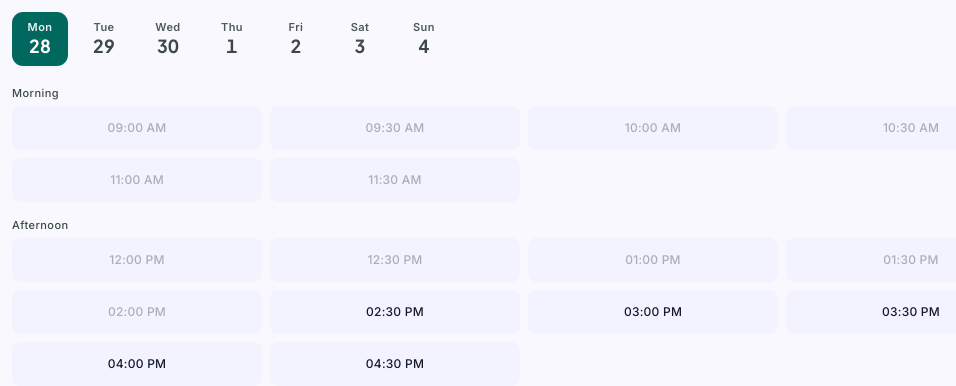
Scenario: SlotPicker › disables booked slots on the selected date
Click the tab with aria-label "sep 30" at (168, 39), box [140, 12, 196, 66]
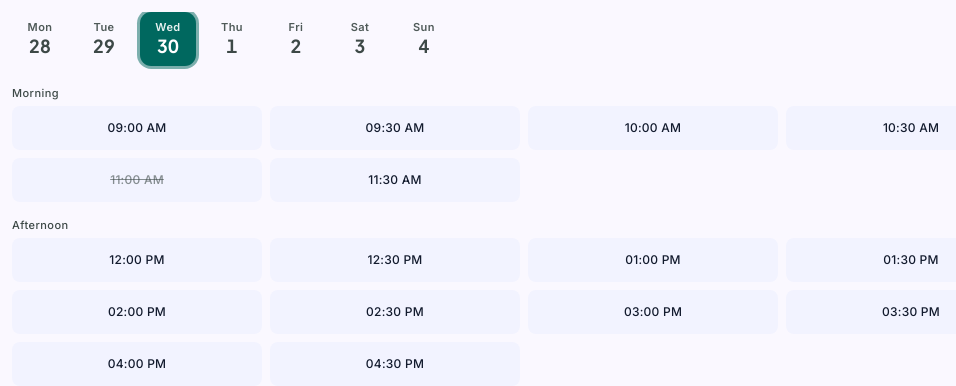
Expected: the radio button named "11:00 AM" next to "11:00 AM" is disabled, [129, 172, 145, 188]
Expected: the radio button named "11:30 AM" next to "11:30 AM" is enabled, [387, 172, 403, 188]
